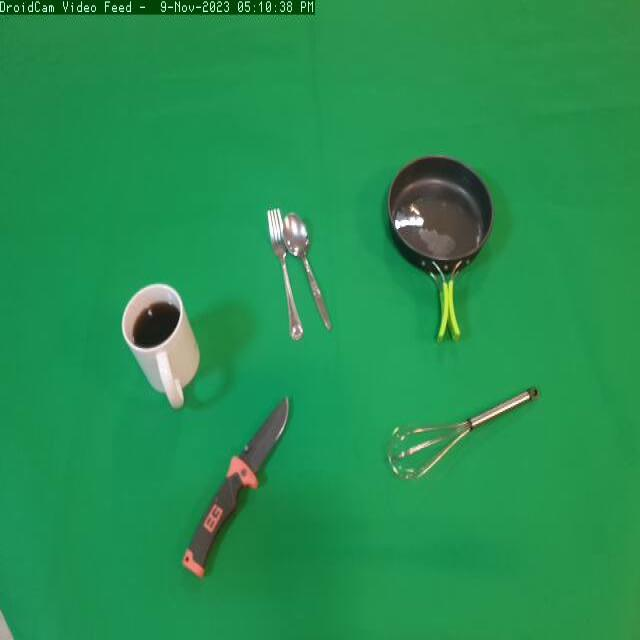fork: (260, 200, 308, 346)
fullcup: (111, 274, 204, 422)
knife: (172, 386, 299, 589)
pan: (378, 148, 498, 378)
spoon: (285, 206, 338, 335)
whisk: (386, 382, 560, 501)
